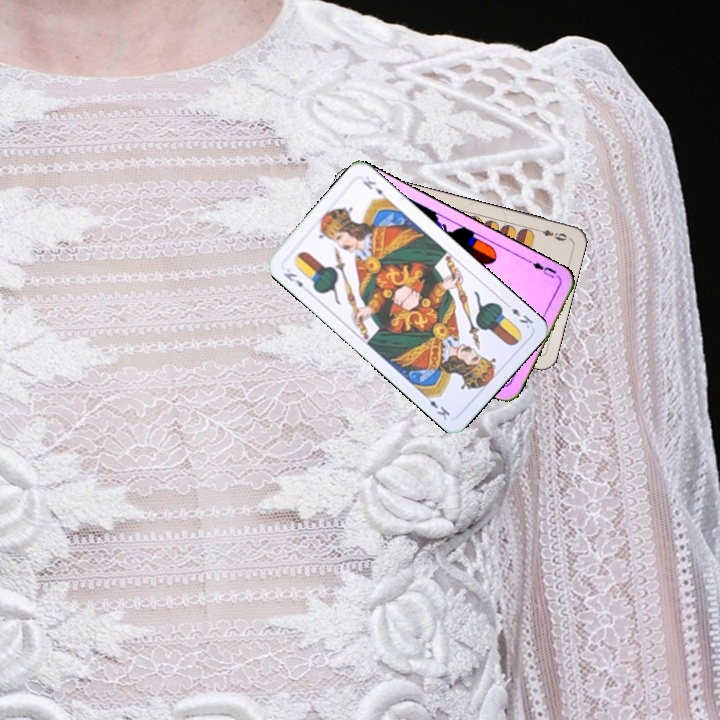E9: (531, 225, 570, 244)
EK: (501, 298, 536, 331), (279, 269, 306, 290)
EU: (529, 258, 562, 281)
